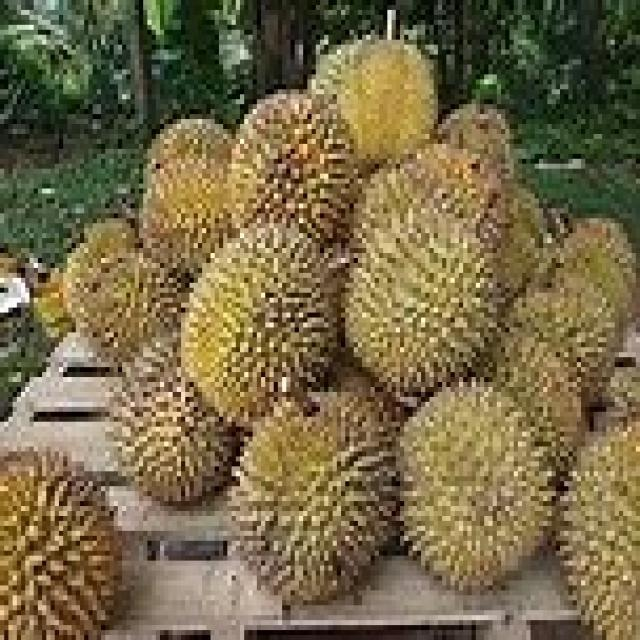mature: (230, 392, 401, 602), (231, 91, 360, 244)
